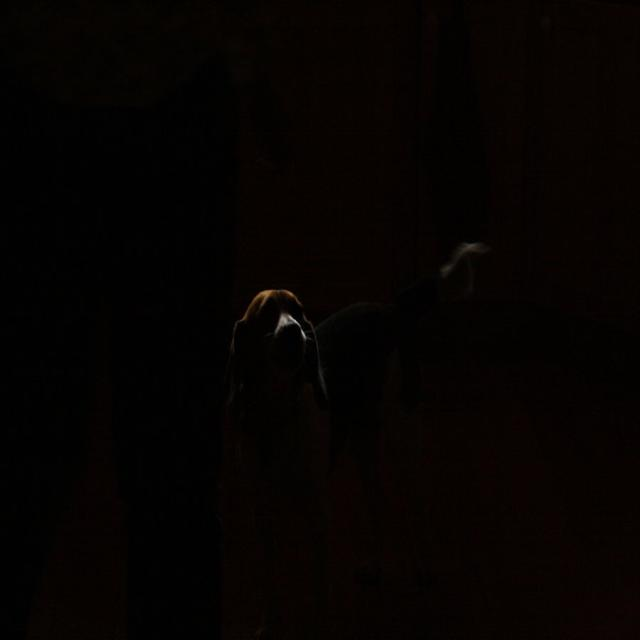Dog: (209, 231, 506, 574)
